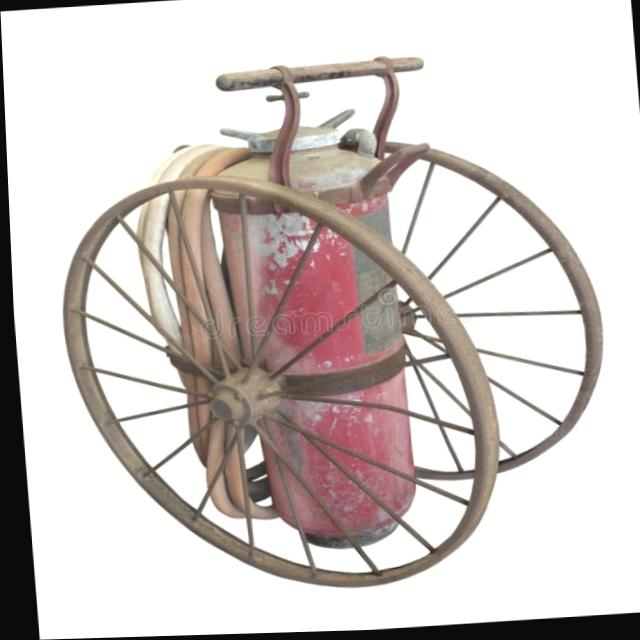FireExtinguisher: (126, 104, 461, 565)
